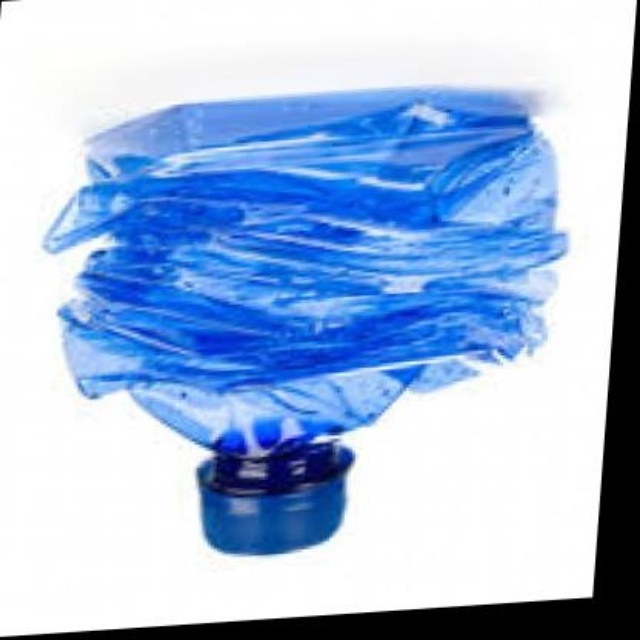trash: (45, 88, 565, 552)
